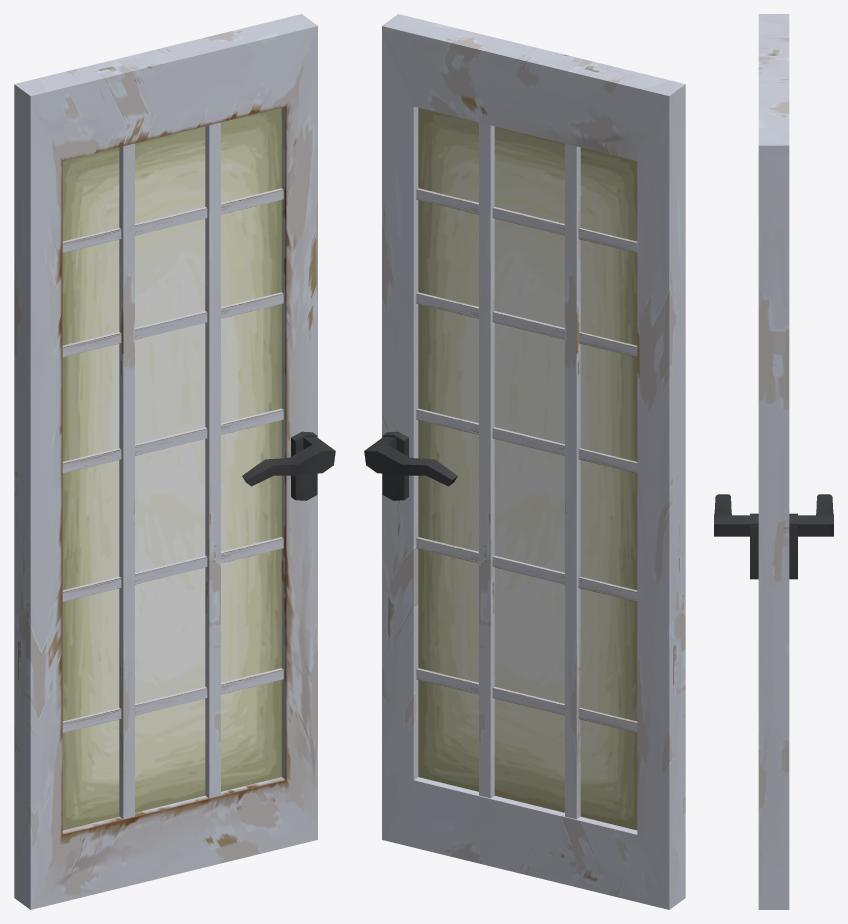
Rendered from MOD_Door_03_03.fbx.
3 renders of one model, left to right at view 1: azimuth 30°, elevation 25°; view 2: azimuth 150°, elevation 25°; view 3: azimuth 270°, elevation 25°, orthographic. The views are drawn at different scales.
Parts seen in each view (by area): view 1: MOD_Door_03_03; view 2: MOD_Door_03_03; view 3: MOD_Door_03_03.
Part boxes in pixels (x1,y1,x2,y2): MOD_Door_03_03: [14, 14, 335, 909]; MOD_Door_03_03: [364, 14, 685, 909]; MOD_Door_03_03: [714, 14, 833, 909].
Size of the model in its own units: 88 by 238 by 33.83.
